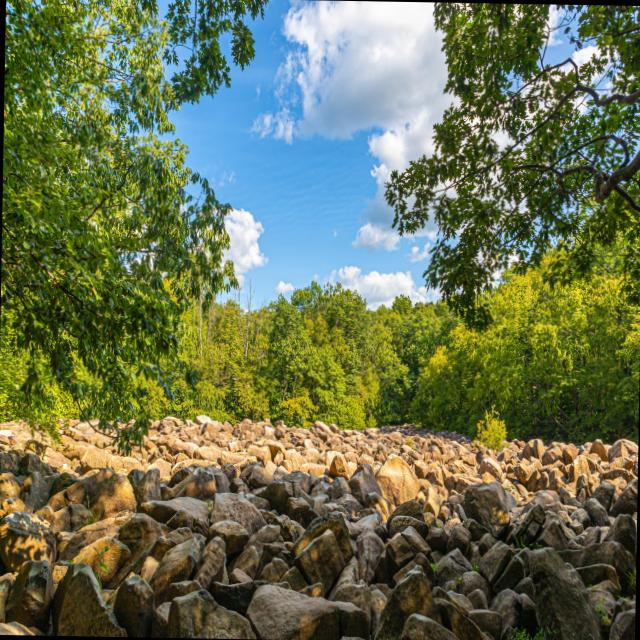rocks: (0, 415, 638, 640)
